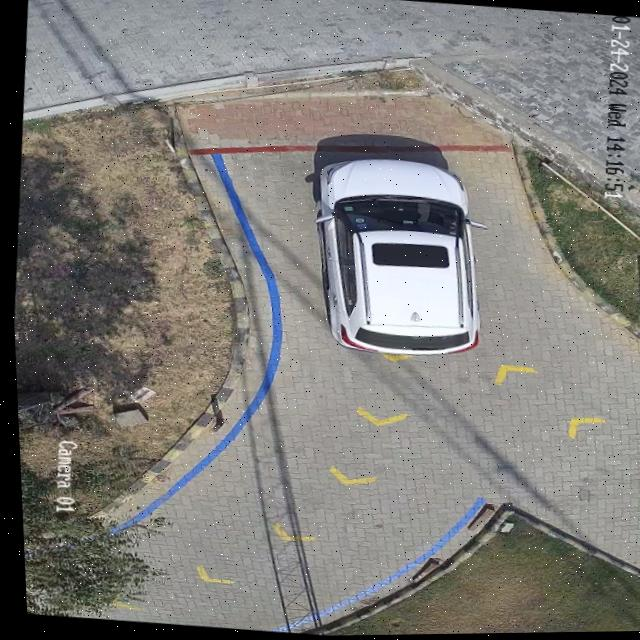car: (313, 160, 477, 357)
